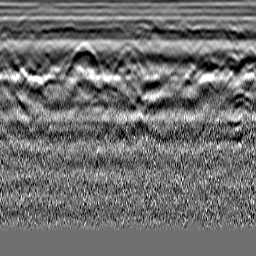cavity: (114, 43, 139, 73)
